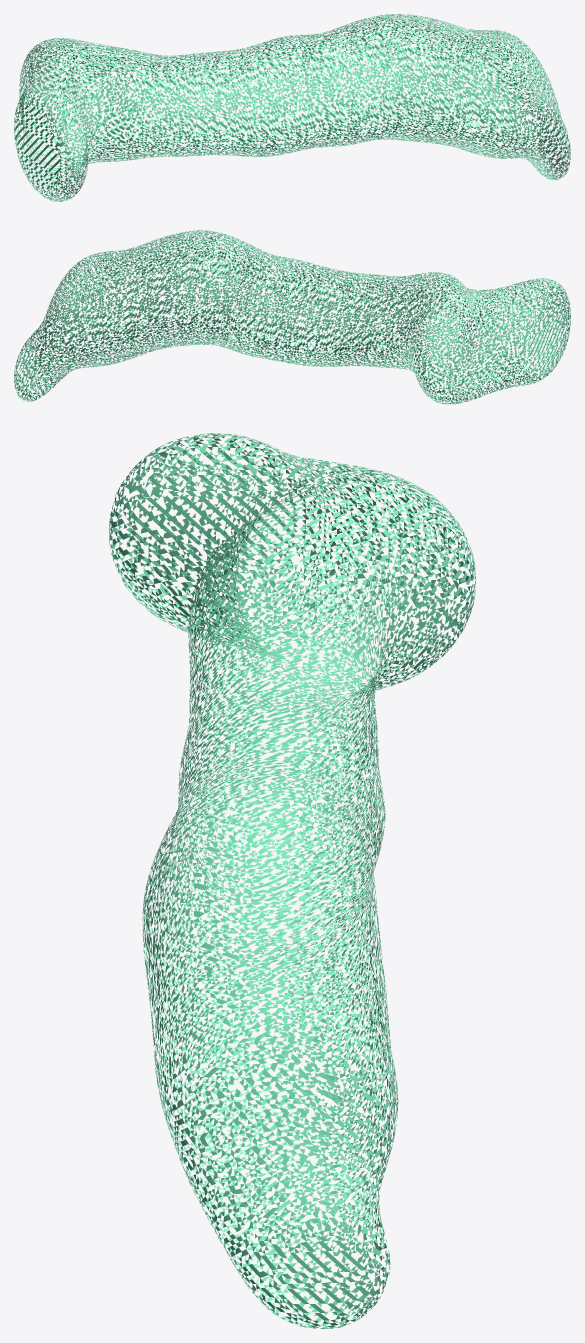
File: healthy.glb
3 views of the same model, one above another, from view 1: azimuth 30°, elevation 25°; view 2: azimuth 150°, elevation 25°; view 3: azimuth 270°, elevation 25° (orthographic). The views are drawn at different scales.
Bounding box in the file's own units: 146 × 60.9 × 46.55.
